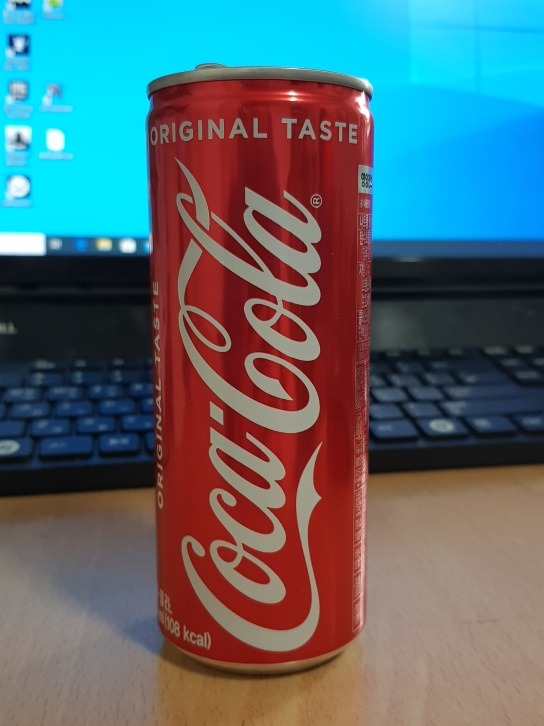Can: (142, 62, 379, 677)
